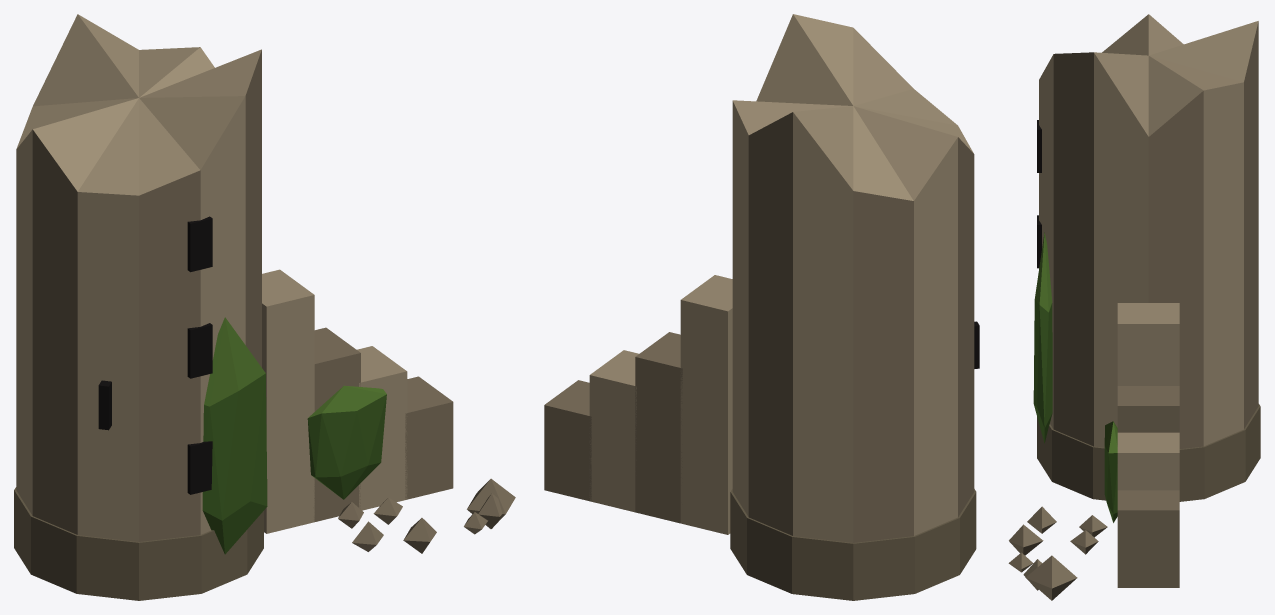
The model's file is chateau_ruin.glb.
The picture shows the model from 3 angles, left to right: view 1: azimuth 30°, elevation 25°; view 2: azimuth 150°, elevation 25°; view 3: azimuth 270°, elevation 25°; orthographic projection. The views are drawn at different scales.
Visible parts, largest first — view 1: chateau_ruin2; view 2: chateau_ruin2; view 3: chateau_ruin2.
Part boxes in pixels (bbox=[...]): chateau_ruin2: bbox=[14, 14, 515, 600]; chateau_ruin2: bbox=[544, 14, 979, 600]; chateau_ruin2: bbox=[1008, 14, 1260, 600].
Bounding box in the file's own units: 6.05 × 6.89 × 3.43.
